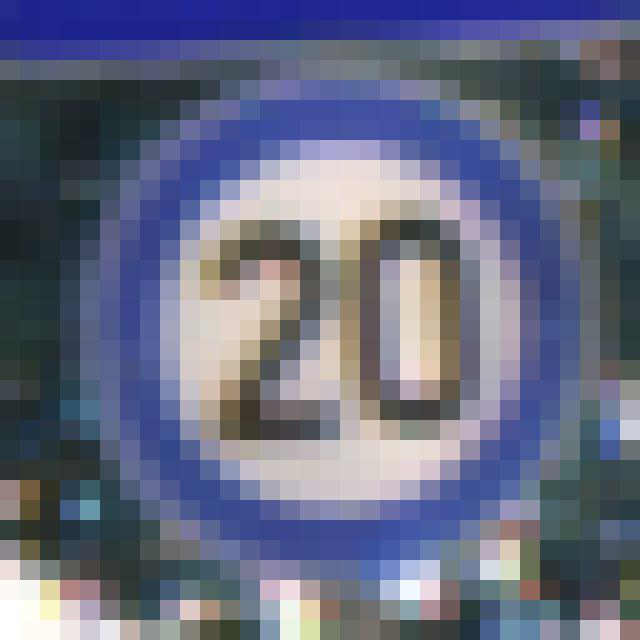SPEED LIMIT 20: (87, 93, 576, 543)
